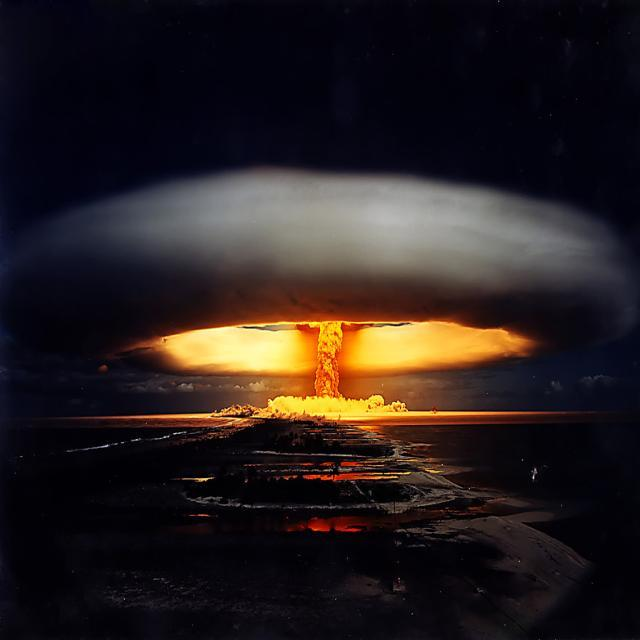Fire: (188, 318, 507, 379), (266, 394, 406, 412)
